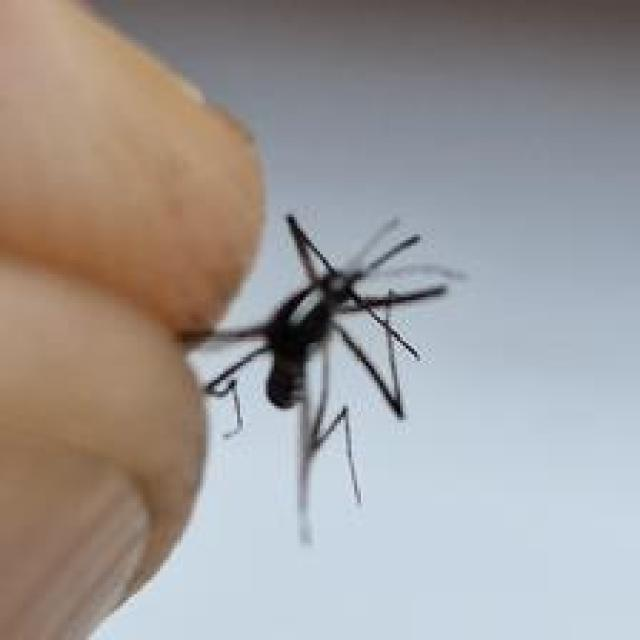Aedes albopictus: (177, 210, 466, 547)
